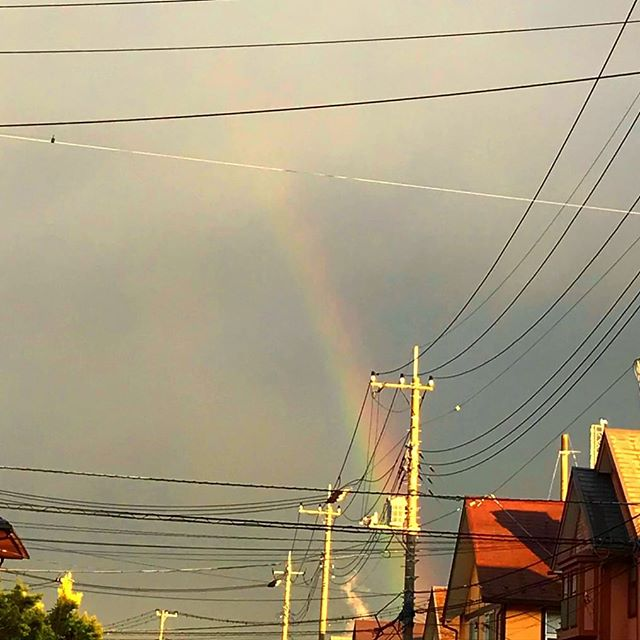building: (446, 487, 573, 640), (565, 425, 640, 640)
rainbow: (189, 13, 420, 586)
sky: (14, 1, 640, 488)
